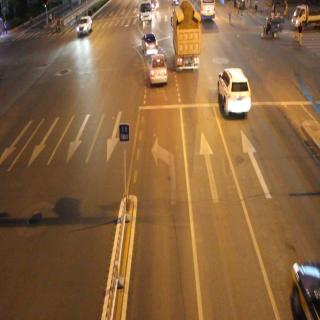BigCar: (164, 5, 200, 61)
Car: (214, 62, 248, 120), (148, 54, 169, 94), (140, 20, 161, 54), (77, 11, 93, 33)
